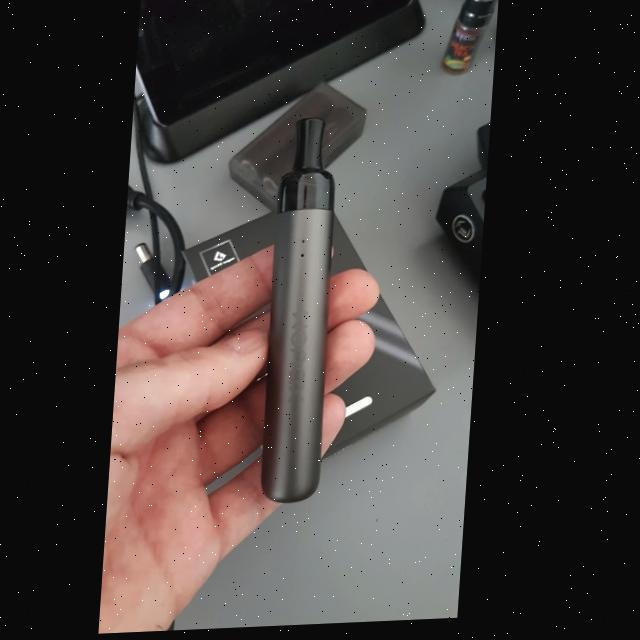vape: (260, 115, 344, 511)
